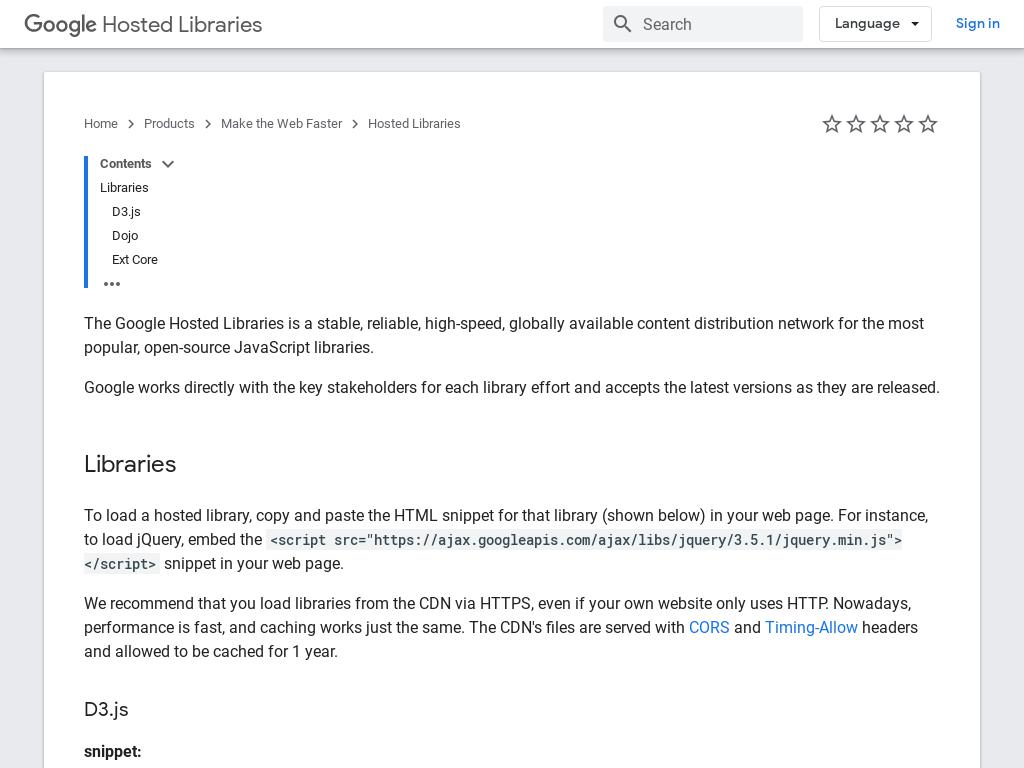button: (100, 176, 940, 200), (112, 200, 940, 224), (112, 224, 940, 248), (112, 248, 940, 272), (24, 8, 262, 41), (819, 6, 932, 42), (221, 112, 342, 136), (368, 112, 461, 136), (948, 6, 1008, 42), (144, 112, 195, 136), (100, 156, 152, 176), (84, 112, 118, 136)
field: (603, 6, 803, 42)
heading: (84, 448, 940, 480), (84, 696, 940, 724)
image: (24, 13, 98, 37)
link: (765, 618, 858, 637), (689, 618, 730, 637)
text: (84, 312, 940, 360), (84, 529, 902, 574), (84, 506, 928, 549), (84, 618, 918, 661), (84, 594, 911, 637), (84, 376, 940, 400), (84, 740, 940, 764), (102, 11, 262, 38), (160, 554, 344, 573), (100, 156, 152, 172), (100, 180, 149, 196), (112, 252, 158, 268), (730, 618, 765, 637), (112, 204, 141, 220), (112, 228, 138, 244)
